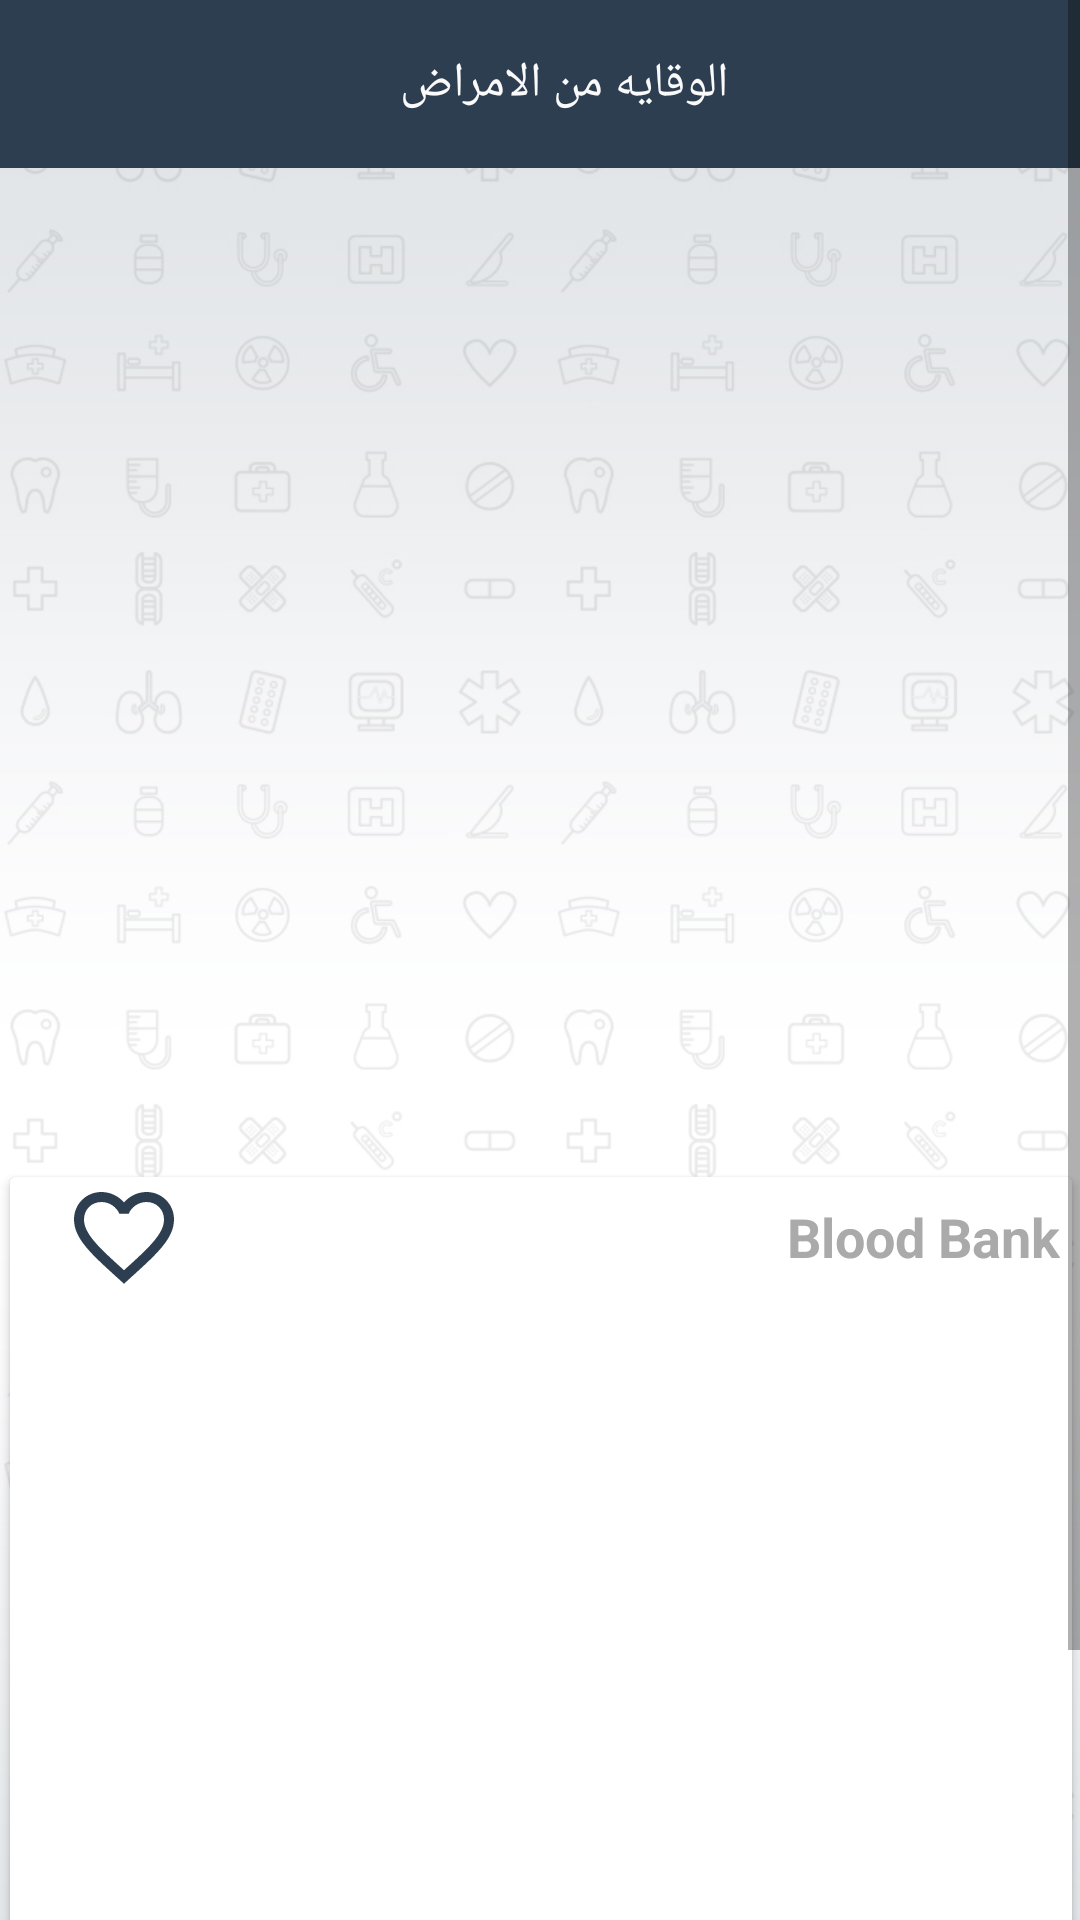

Named icons in this screenshot (1080px x 1920px) and their bounding boxes, (x1, y1, x2, y2):
save unsave: (74, 1192, 174, 1284)
